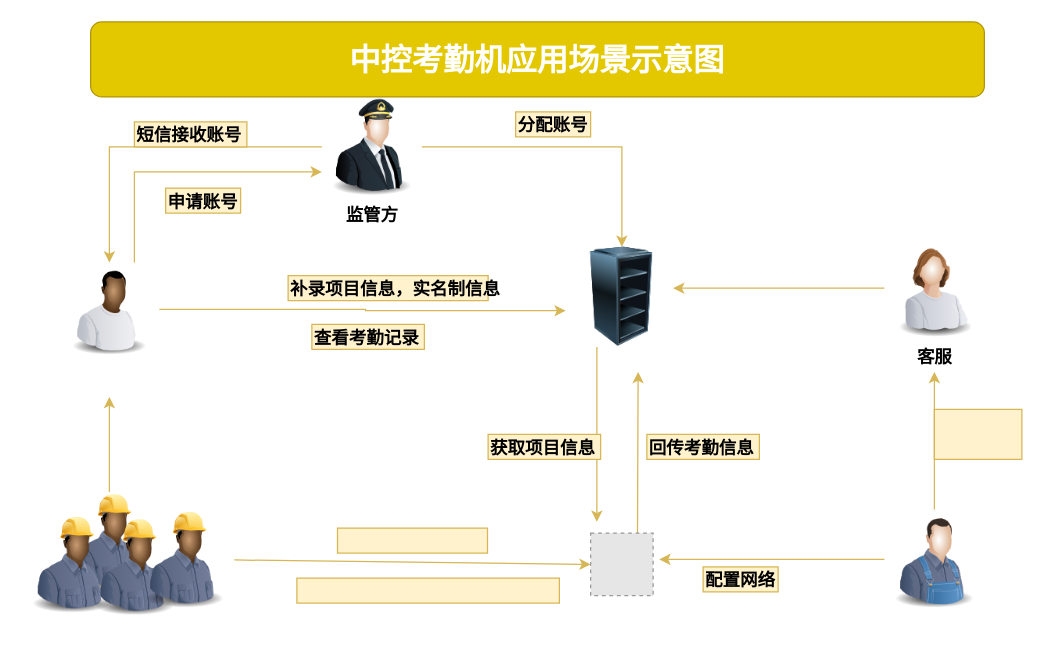
The diagram is 1044 pixels wide and 661 high, and some of its shapes have lost their labels. Grey dashed boxes stand in for pictures. The shapes that lost their labels are listed below. From the top down, each one's centre as x and y in pixels, then its label:
At point 109,309: "项目方".
At point 621,296: "和谐用工平台".
At point 977,433: "联系客服 绑定SN".
At point 412,540: "补录人脸、指纹模板".
At point 934,559: "安装人员".
At point 427,590: "刷卡、指纹、人脸识别采集考勤".
